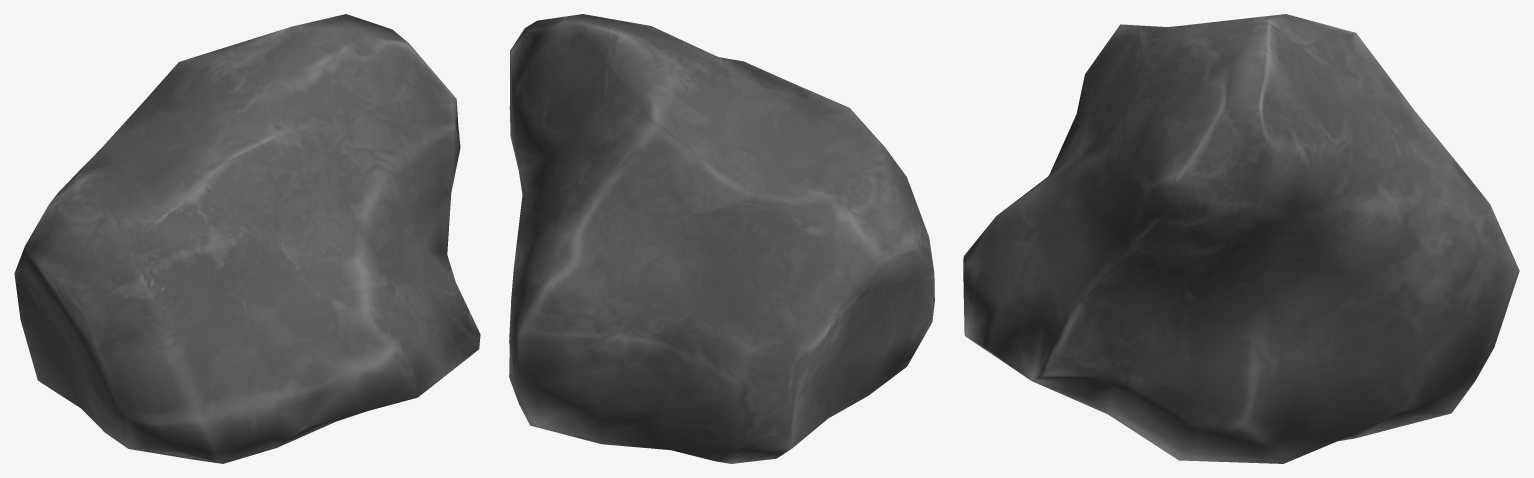
Rendered from ROK0110040.fbx.
3 views of the same model, side by side, from view 1: azimuth 30°, elevation 25°; view 2: azimuth 150°, elevation 25°; view 3: azimuth 270°, elevation 25° (orthographic). The views are drawn at different scales.
Parts seen in each view (by area): view 1: smROK0110040; view 2: smROK0110040; view 3: smROK0110040.
Boxes of the visible parts, x1=… form: smROK0110040: x1=14, y1=14, x2=480, y2=463; smROK0110040: x1=509, y1=14, x2=934, y2=463; smROK0110040: x1=963, y1=14, x2=1519, y2=463.
Bounding box in the file's own units: 207 × 177 × 215.
Materials: 1 (1 with a texture image).
